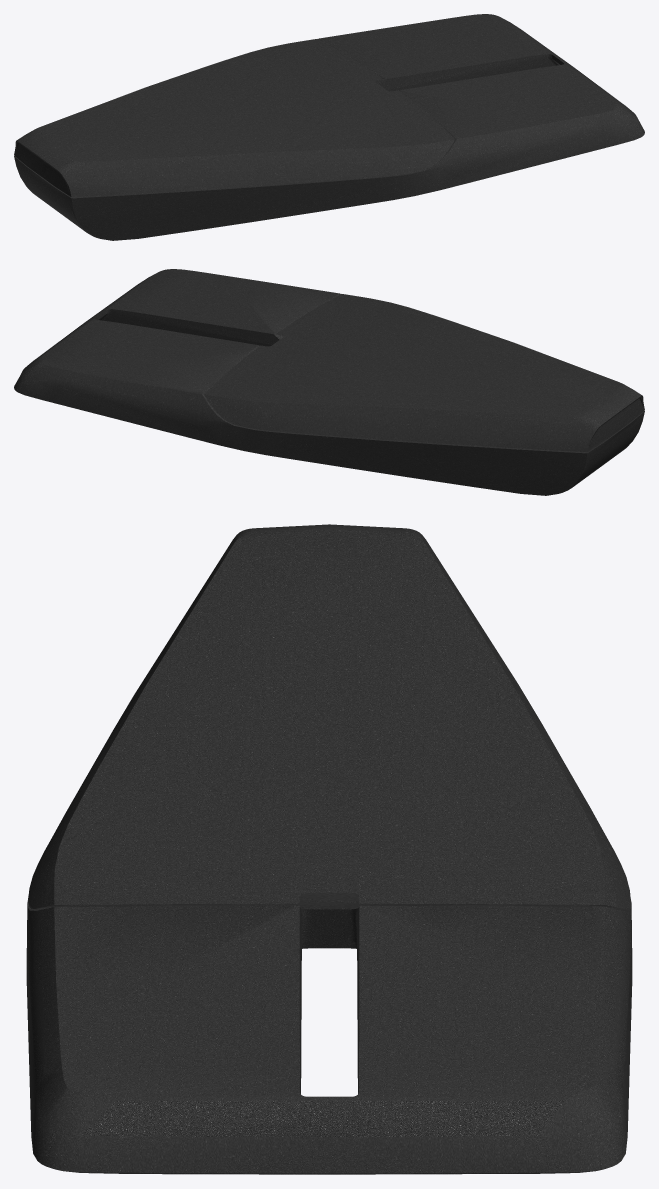
File: Streetlight_11_Midi.glb
The picture shows the model from 3 angles, top to bottom: view 1: azimuth 30°, elevation 25°; view 2: azimuth 150°, elevation 25°; view 3: azimuth 270°, elevation 25°; orthographic projection. The views are drawn at different scales.
Visible parts, largest first — view 1: Siteco Streetlight 11 Midi; view 2: Siteco Streetlight 11 Midi; view 3: Siteco Streetlight 11 Midi.
Boxes of the visible parts, x1,y1,x2,y2 form: Siteco Streetlight 11 Midi: (14,14,644,240); Siteco Streetlight 11 Midi: (14,269,644,495); Siteco Streetlight 11 Midi: (26,524,632,1174).
Size of the model in its own units: 0.78 by 0.1186 by 0.376.
3 materials, 2 textured.
